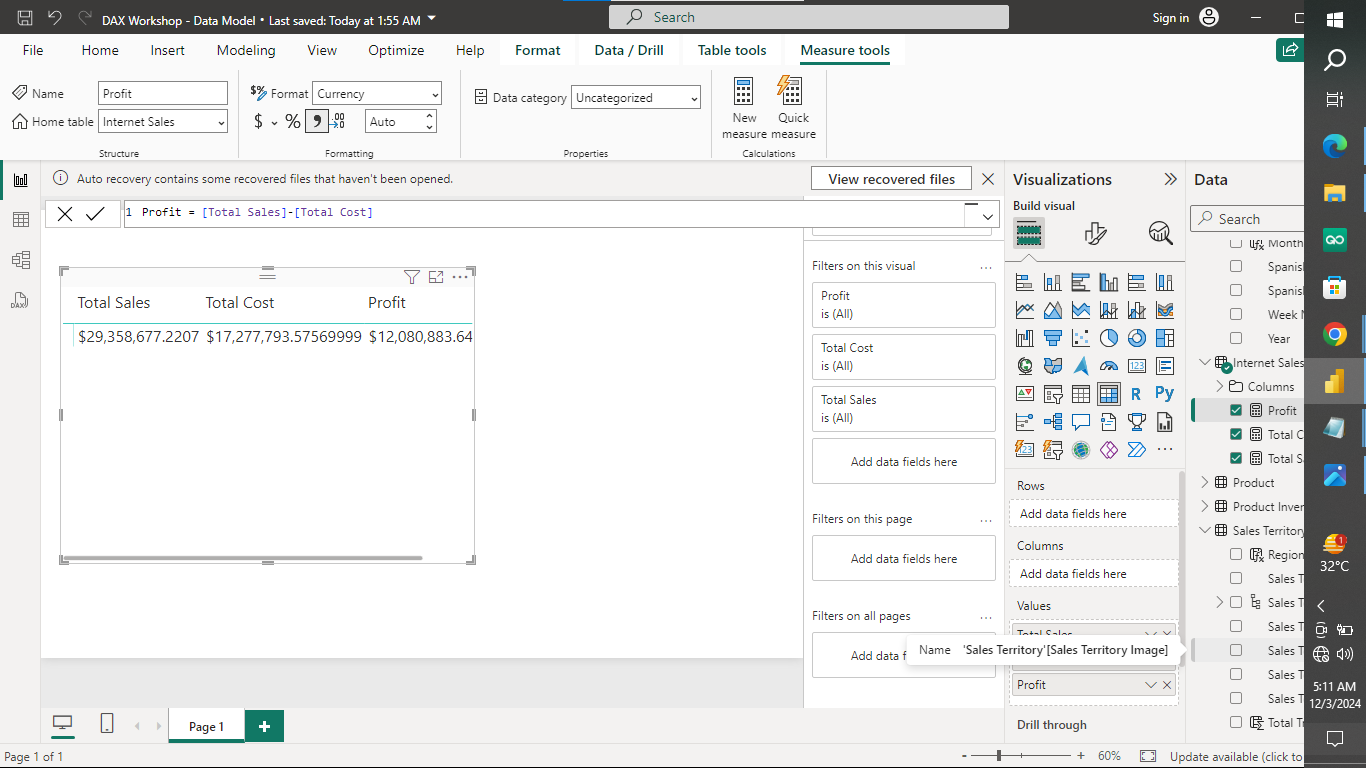

The page's visual inventory and layout, read from the dashboard file:
{"tool":"powerbi","page":{"name":"Page 1","canvas":[1280,720],"ordinal":0},"visuals":[{"type":"pivotTable","fields":{"Values":["Internet Sales.Total Sales","Internet Sales.Total Cost","Internet Sales.Profit","Internet Sales.Total Sales(United States)","Internet Sales.Prorgin Margin","Internet Sales.YTD sales","Internet Sales.Total Sales(Canada)","Internet Sales.Total Sales(All countries)","Internet Sales.Fiscal YTD Sales","Internet Sales.YTD Sales(weekdays)"],"Rows":["Sales Territory.Sales Territory Country","Date.Year","Date.Day Number Of Week"]},"box":[231.8,126,1048.2,465.3],"z":1}]}

Visuals, with their boxes on the page's 1280x720 design canvas (x1, y1, x2, y2). These are canvas units, not pixel positions in the 1366x768 screenshot, which may show the page scaled, cropped or inside an application window:
pivotTable - Internet Sales.Total Sales x Internet Sales.Total Cost: detection(232, 126, 1280, 591)
